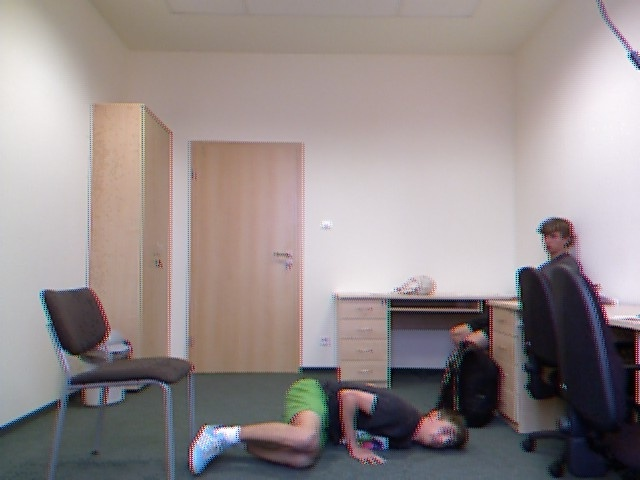fall: (179, 372, 474, 475)
not_fallen: (516, 210, 589, 275)
